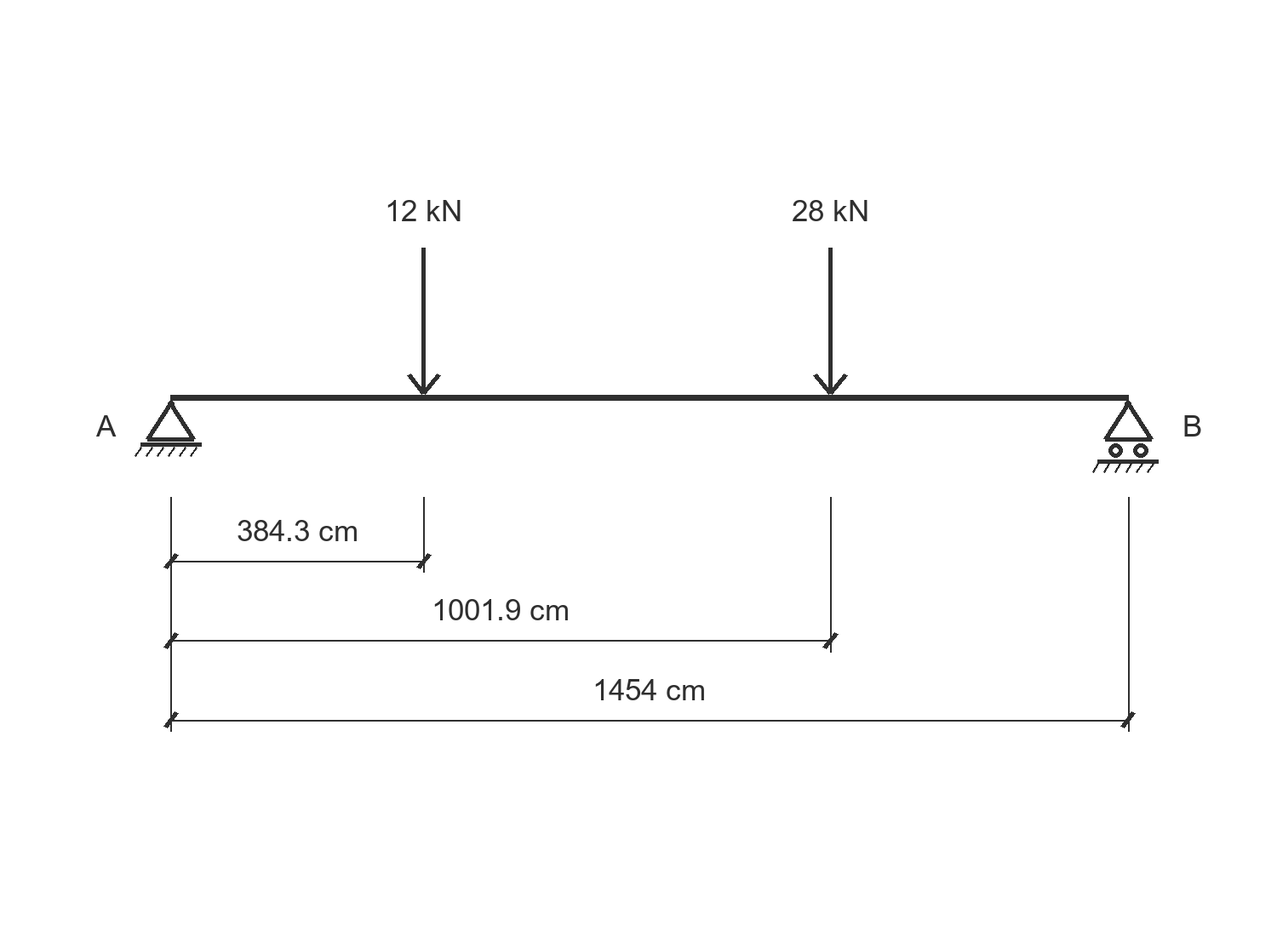pin_support: (135, 401, 202, 457)
point_load: (813, 248, 848, 395), (407, 248, 441, 395)
roller_support: (1092, 401, 1159, 473)
